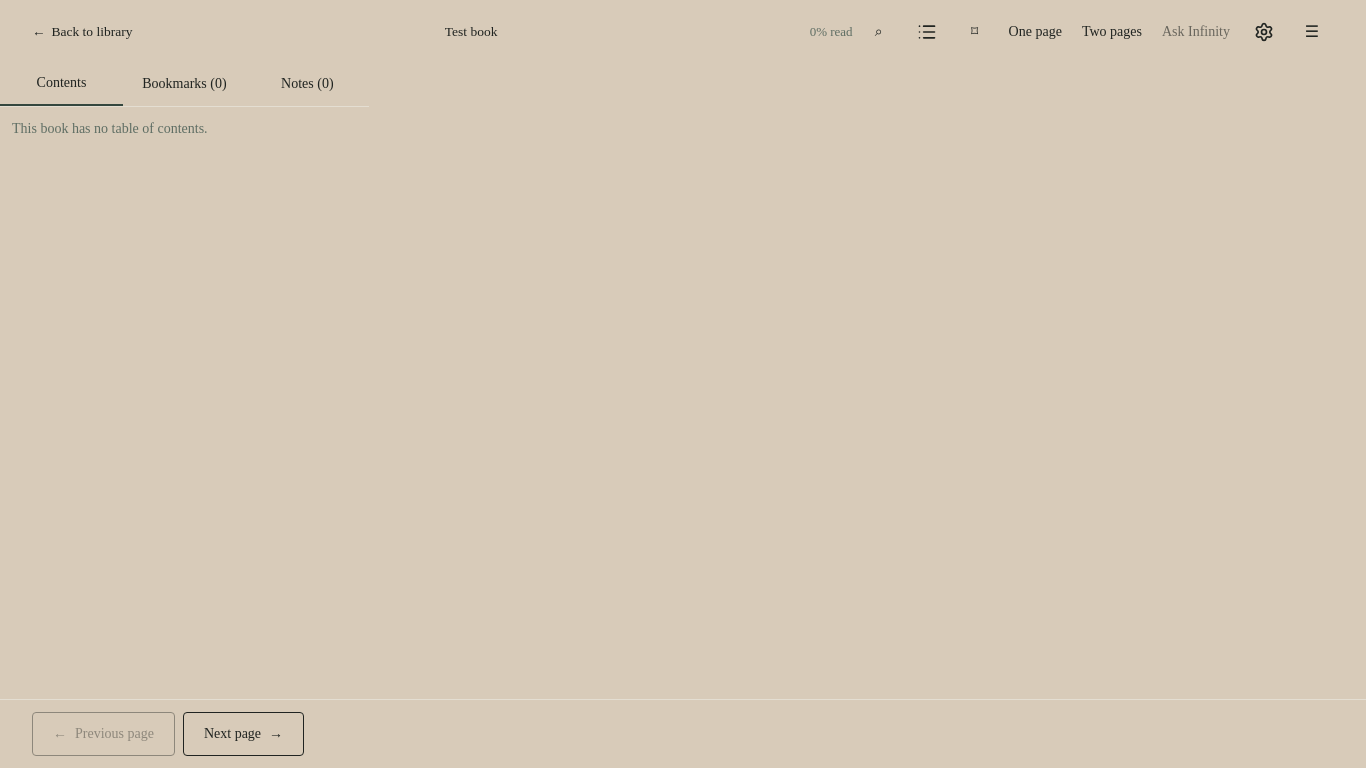
Test: reader depth controller › keeps the search panel open until controller navigation succeeds
expect the button "Next page →" is shown: met, box [183,712,304,756]
Click the button named "Search this book": (879, 32) [857,10,901,54]
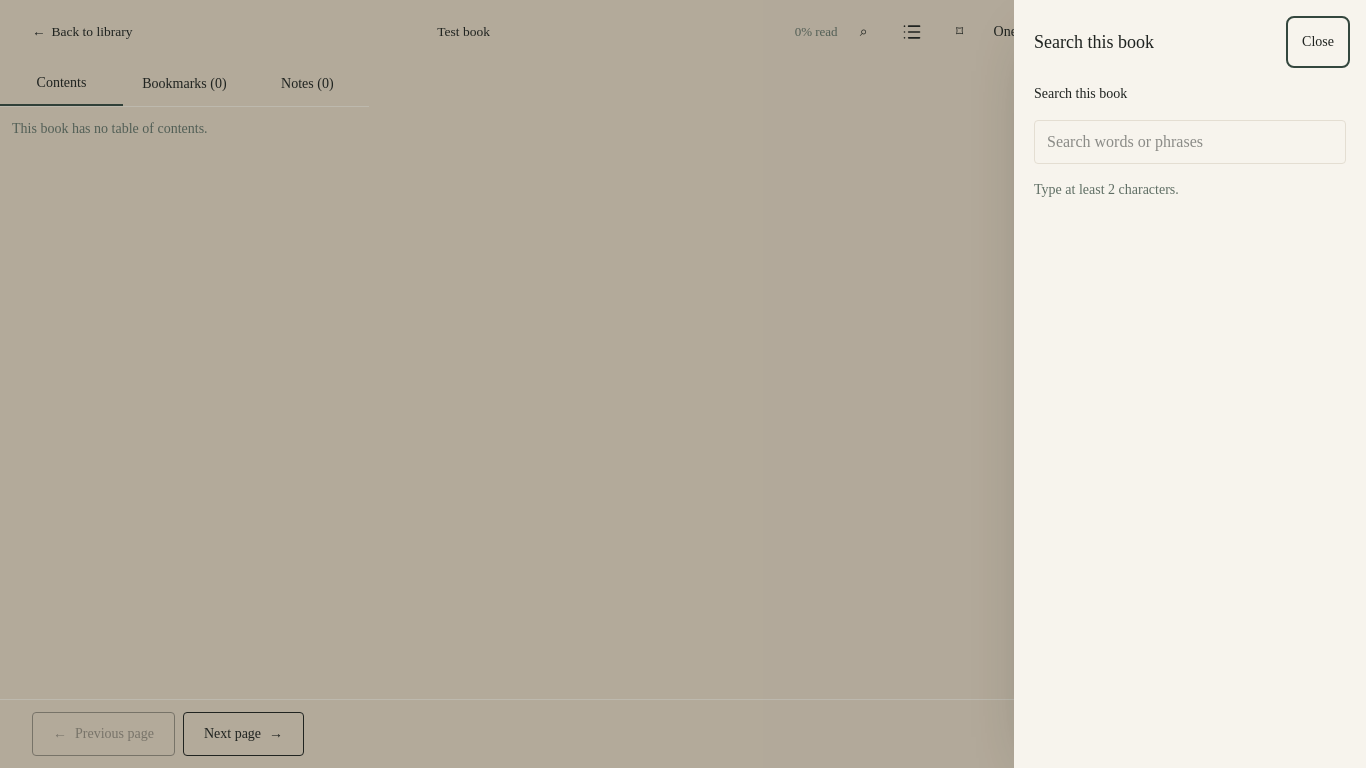
In the search field labelled "Search this book": (1190, 142) [1034,120,1346,164], type "passage"
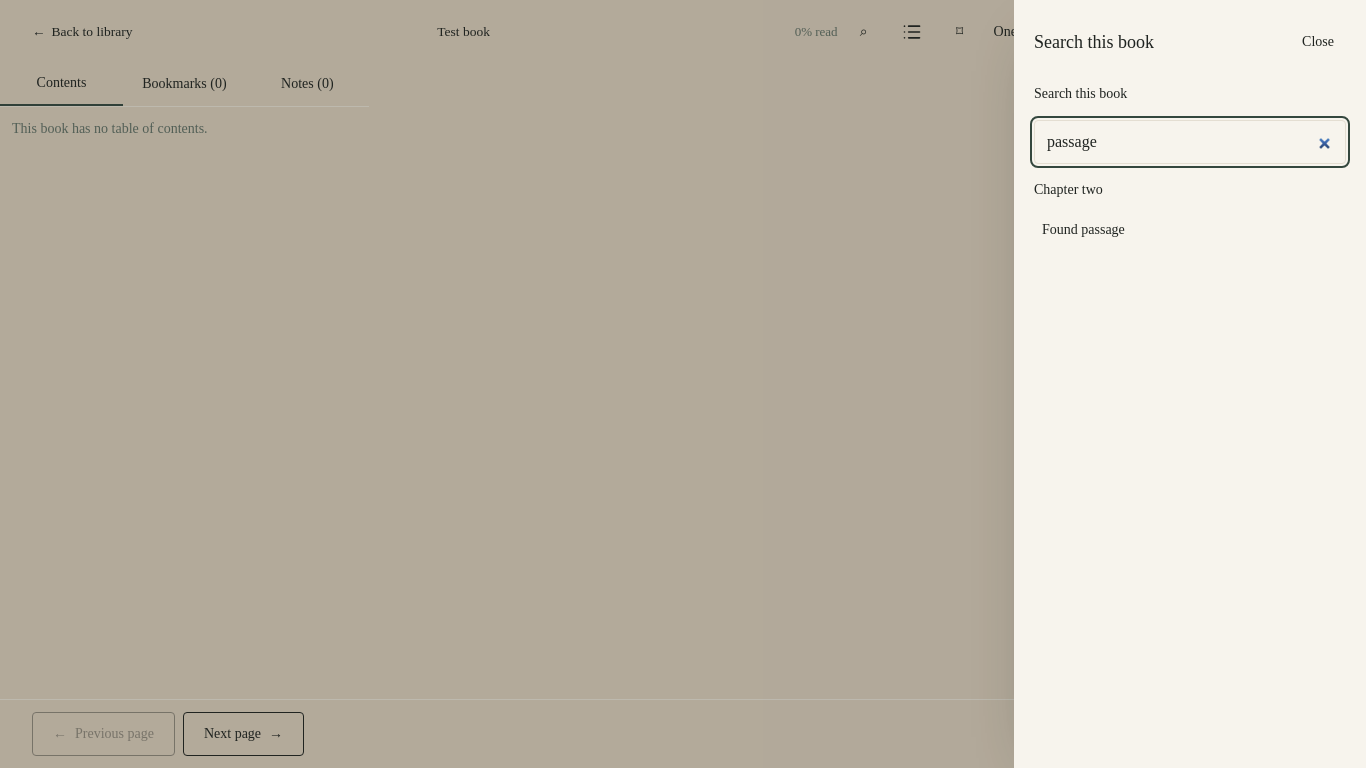
Click the button "Found passage": (1083, 230) [1034,208,1346,252]
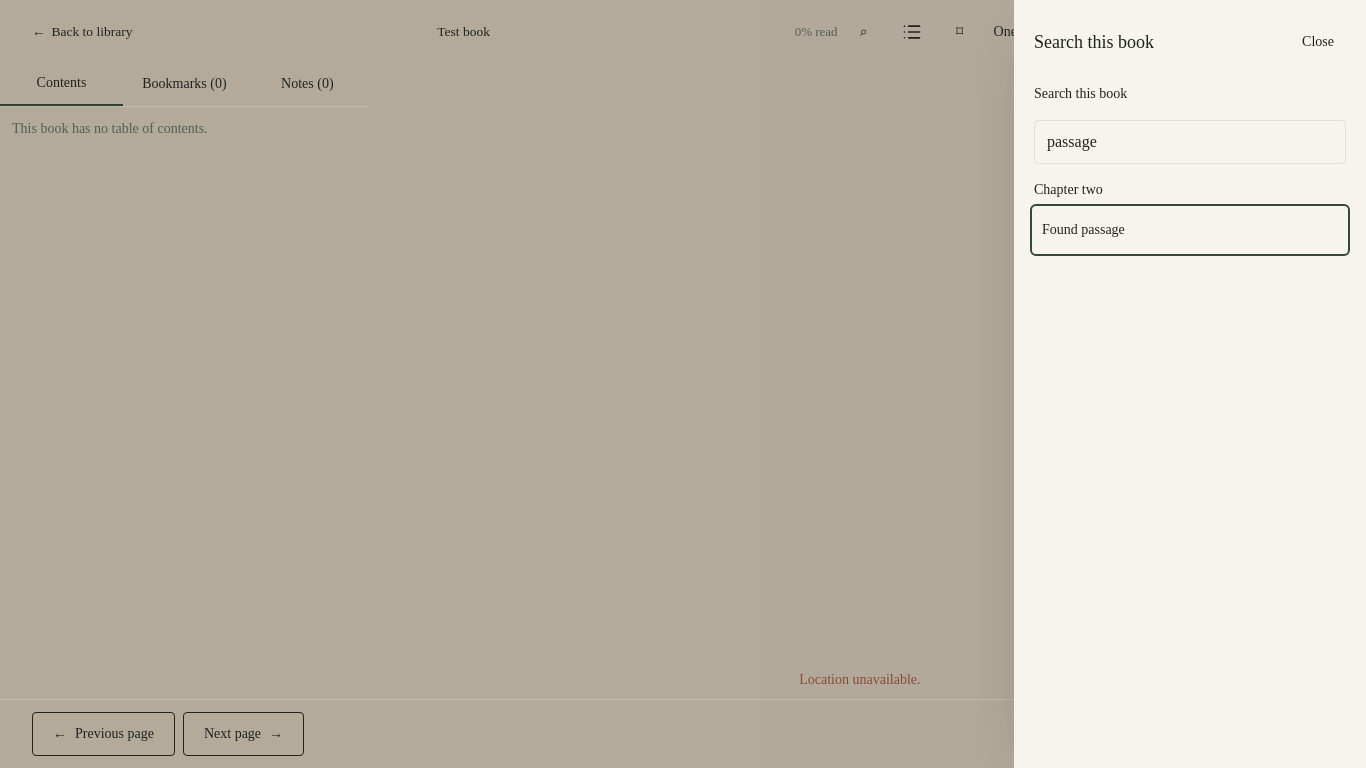
expect the dialog "Search this book" is shown: met, box [1014,0,1365,767]
expect the text "Location unavailable." is shown: met, box [799,672,921,687]
Click the button "Found passage": (1083, 230) [1034,208,1346,252]
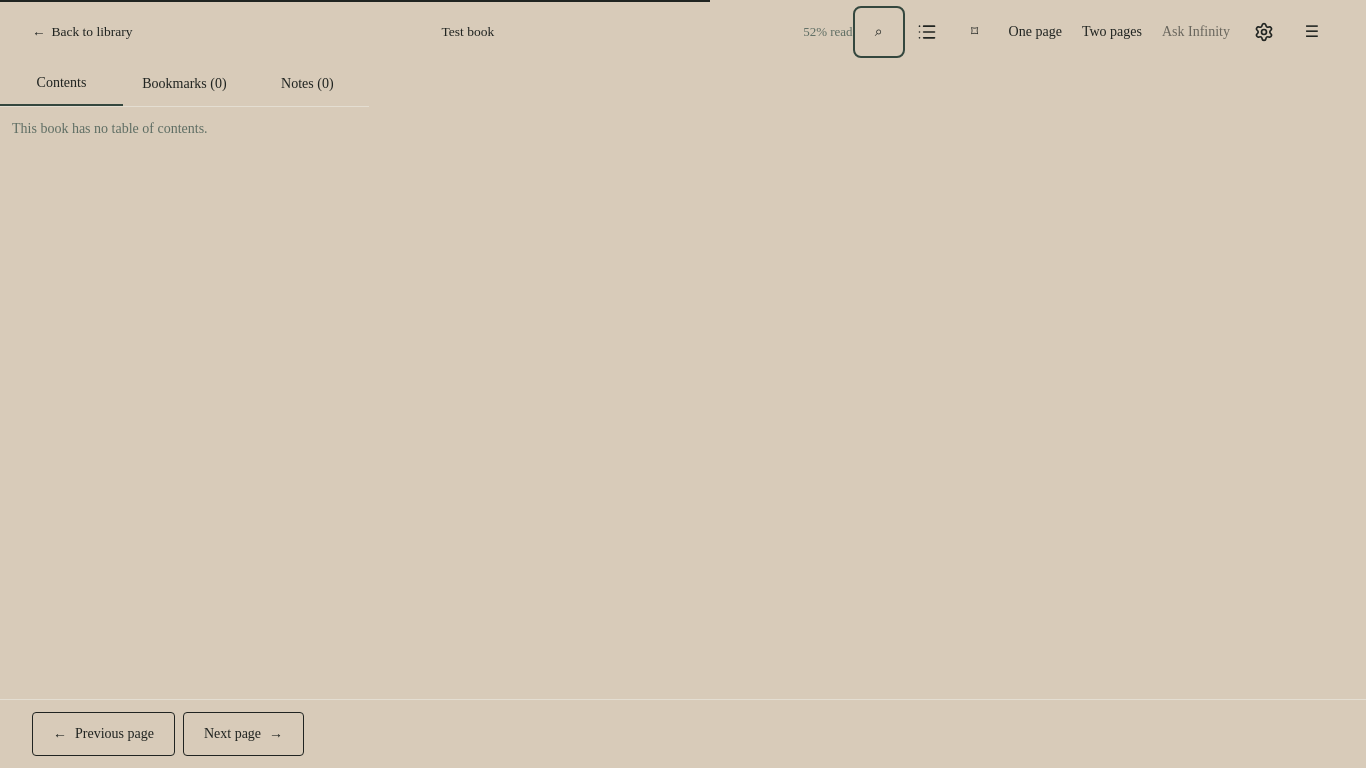
expect the heading "Search this book" is gone: met
